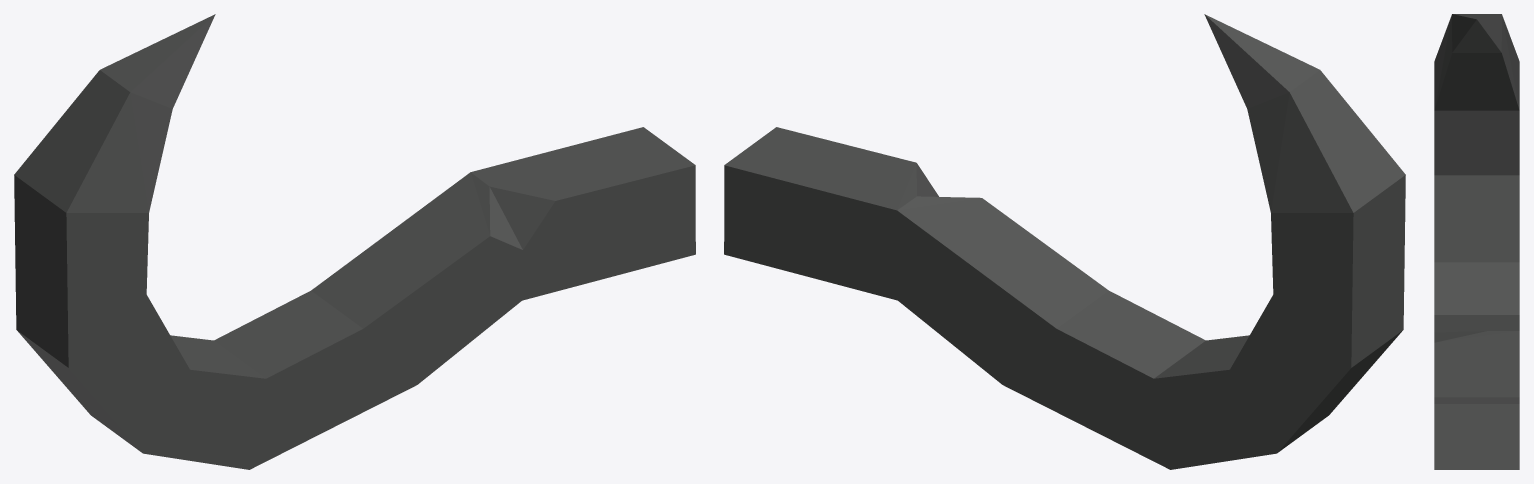
The model's file is Hook_001.fbx.
3 views of the same model, side by side, from view 1: azimuth 30°, elevation 25°; view 2: azimuth 150°, elevation 25°; view 3: azimuth 270°, elevation 25° (orthographic). The views are drawn at different scales.
Visible parts, largest first — view 1: Hook_001; view 2: Hook_001; view 3: Hook_001.
Part boxes in pixels (bbox=[...]): Hook_001: bbox=[14, 14, 695, 469]; Hook_001: bbox=[724, 14, 1405, 469]; Hook_001: bbox=[1434, 14, 1519, 469].
Size of the model in its own units: 0.1356 by 0.0903 by 0.0195.
